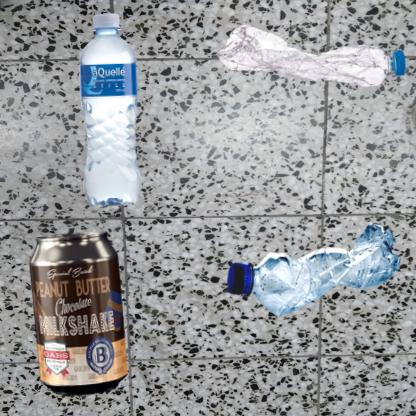botella: (10, 10, 209, 209), (213, 213, 416, 334), (213, 10, 416, 103)
lata: (10, 213, 151, 416)
